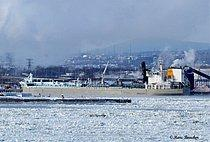MIL_Ship: (17, 71, 186, 97)
